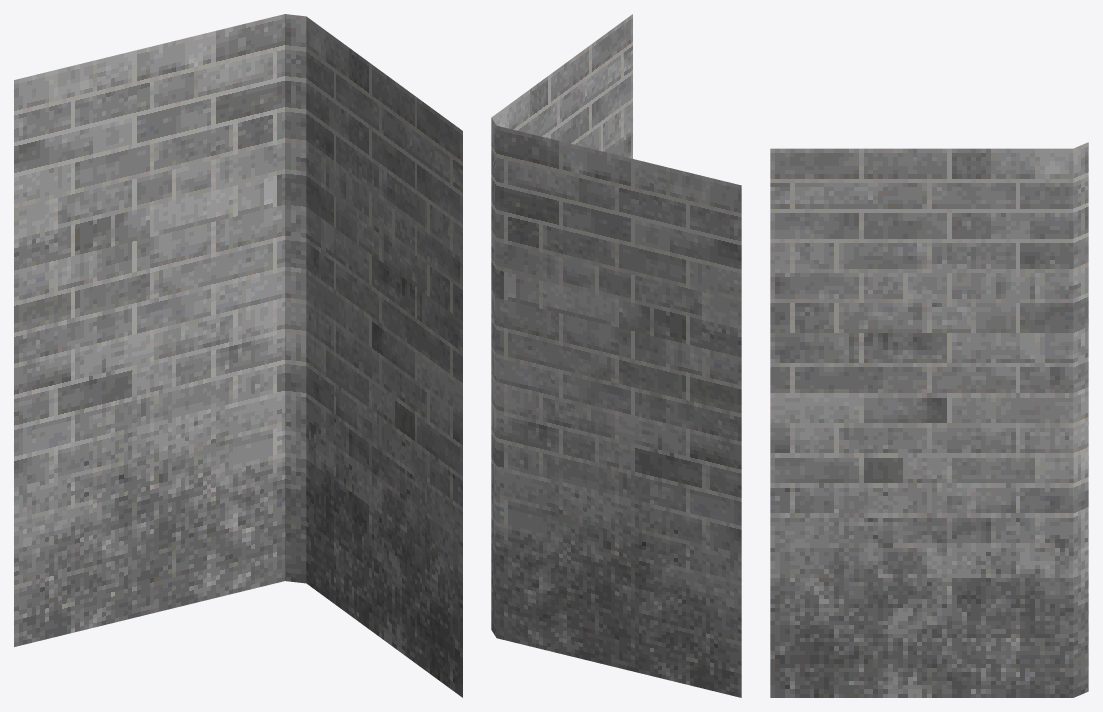
Rendered from wallTurnBrick.glb.
The picture shows the model from 3 angles, left to right: view 1: azimuth 30°, elevation 25°; view 2: azimuth 150°, elevation 25°; view 3: azimuth 270°, elevation 25°; orthographic projection. The views are drawn at different scales.
Visible parts, largest first — view 1: wallTurnBrick; view 2: wallTurnBrick; view 3: wallTurnBrick.
Part boxes in pixels (x1,y1,x2,y2): wallTurnBrick: (14,14,462,697); wallTurnBrick: (491,14,741,697); wallTurnBrick: (770,142,1088,697).
Bounding box in the file's own units: 2.1 × 4 × 2.1.
Materials: 1 (1 with a texture image).
